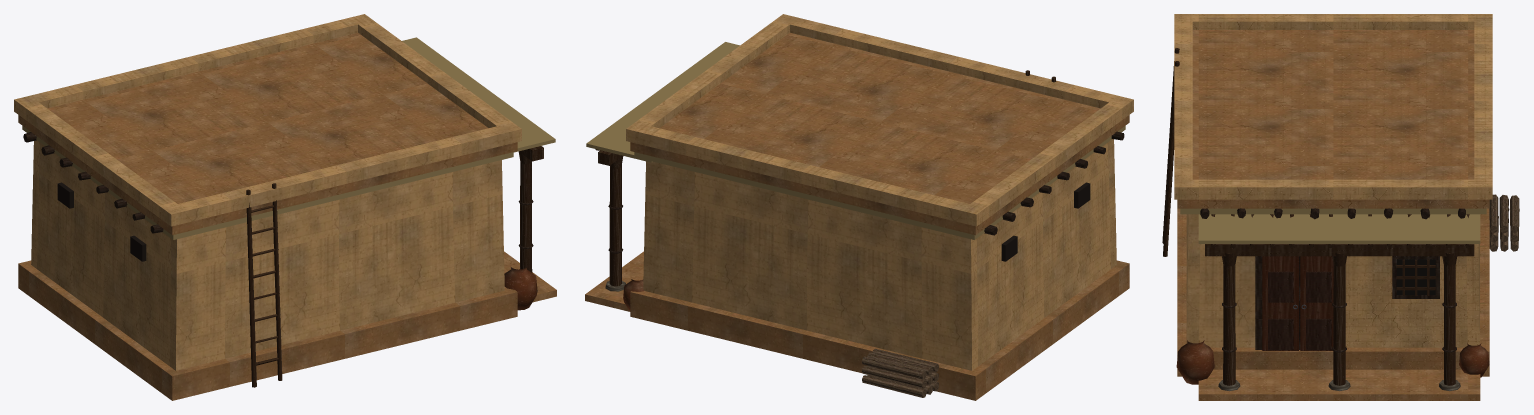
The model's file is B_house.glb.
The picture shows the model from 3 angles, left to right: view 1: azimuth 30°, elevation 25°; view 2: azimuth 150°, elevation 25°; view 3: azimuth 270°, elevation 25°; orthographic projection.
Bounding box in the file's own units: 7.67 × 3.51 × 5.83.
13 materials, 9 textured.
